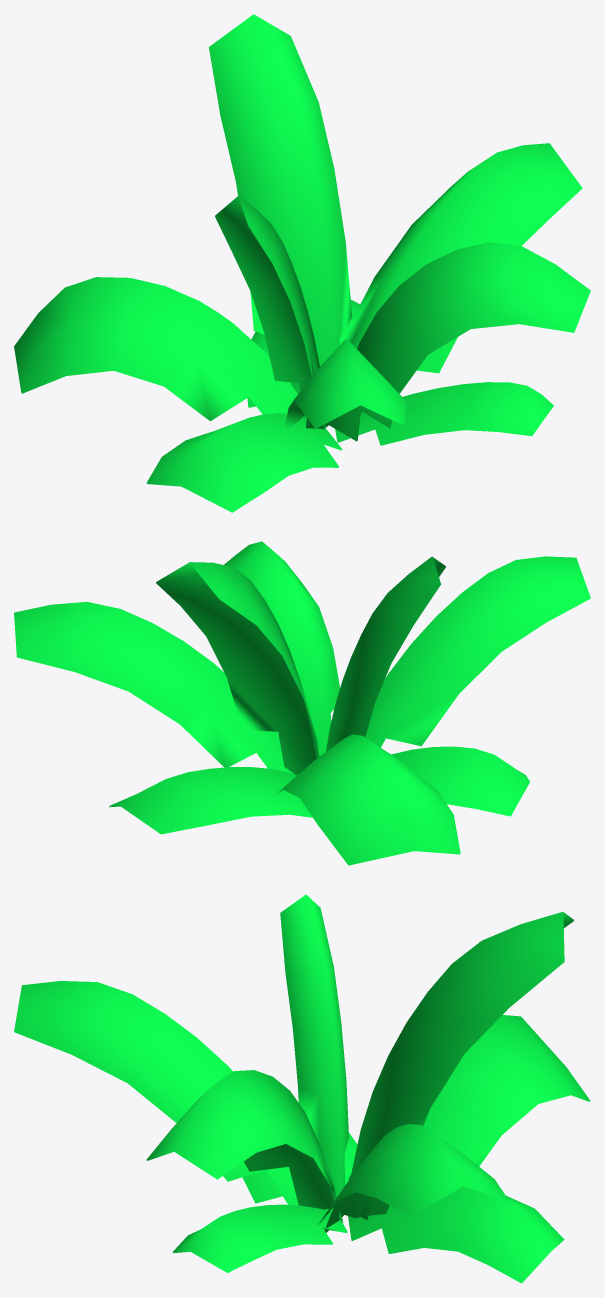
Rendered from Banana_Tiny_2018.FBX.
The picture shows the model from 3 angles, top to bottom: view 1: azimuth 30°, elevation 25°; view 2: azimuth 150°, elevation 25°; view 3: azimuth 270°, elevation 25°; orthographic projection. The views are drawn at different scales.
Visible parts, largest first — view 1: Banana-Tiny_LOD0; view 2: Banana-Tiny_LOD0; view 3: Banana-Tiny_LOD0.
Boxes of the visible parts, x1,y1,x2,y2 form: Banana-Tiny_LOD0: (14, 14, 590, 512); Banana-Tiny_LOD0: (14, 541, 590, 865); Banana-Tiny_LOD0: (14, 894, 590, 1283).
Size of what is drawn, in the model's own units: 13.81 by 8.41 by 13.22.
